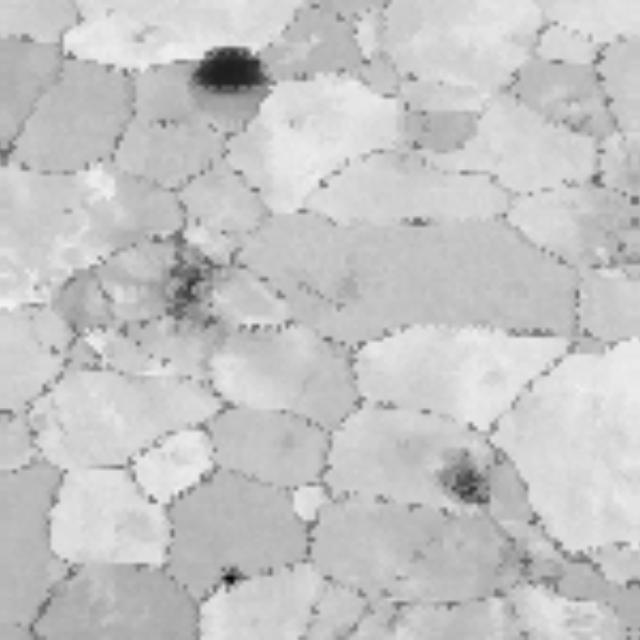good_void: (157, 220, 229, 343), (432, 448, 502, 522), (183, 42, 273, 94), (491, 527, 543, 584), (207, 548, 254, 588), (125, 17, 162, 44), (394, 215, 447, 232)
